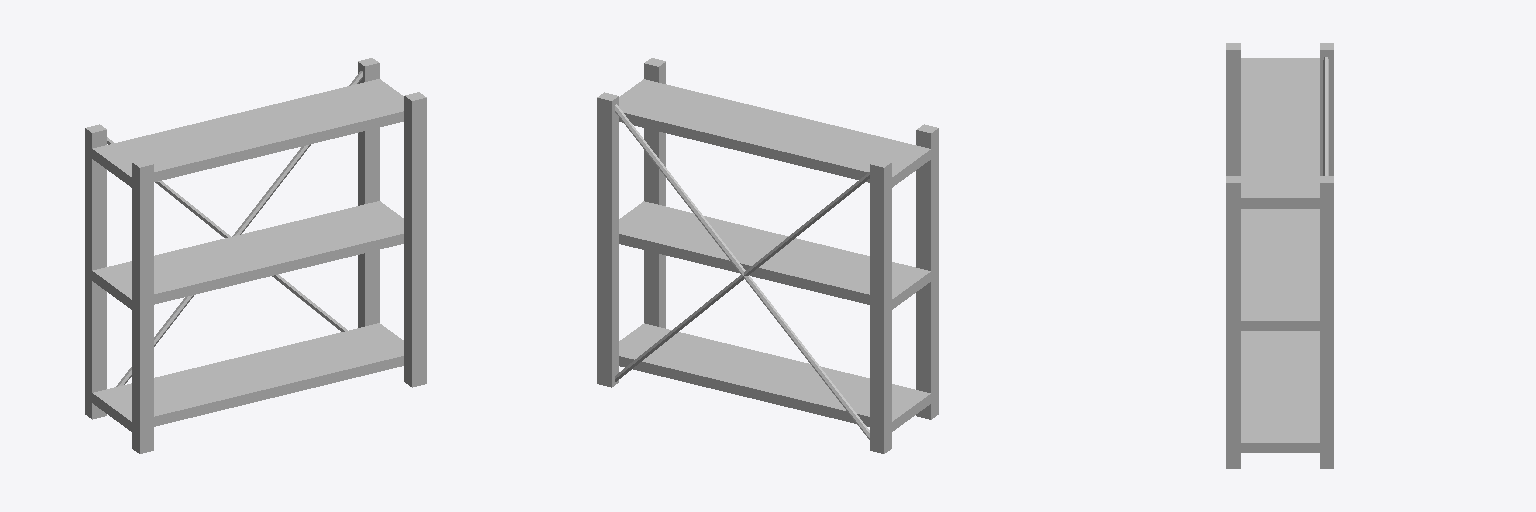
The model's file is MetalShelves.obj.
3 renders of one model, left to right at view 1: azimuth 30°, elevation 25°; view 2: azimuth 150°, elevation 25°; view 3: azimuth 270°, elevation 25°, orthographic.
Visible parts, largest first — view 1: Cube; view 2: Cube; view 3: Cube.
Part boxes in pixels (x1,y1,x2,y2): Cube: (85, 58, 426, 453); Cube: (597, 58, 938, 453); Cube: (1226, 43, 1333, 468).
Bounding box in the file's own units: 3.85 × 3.67 × 1.26.